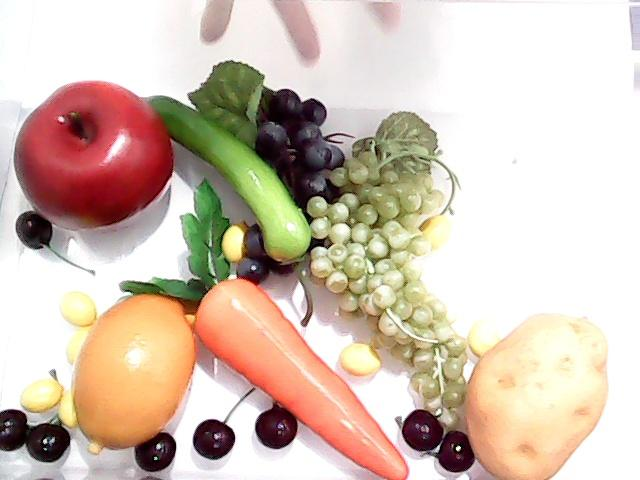apple: (11, 78, 175, 234)
carrot: (118, 179, 409, 480)
grape: (303, 161, 469, 431), (230, 86, 346, 283)
lemon: (69, 290, 199, 454)
pepper: (126, 87, 327, 261)
potato: (464, 310, 608, 478)
